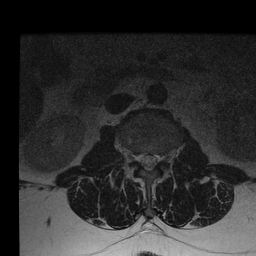CCS_normal: (144, 146, 151, 174)
LFS_normal: (158, 148, 165, 167)
LLS_normal: (152, 147, 158, 171)
RFS_normal: (131, 147, 138, 166)
RLS_normal: (138, 147, 144, 170)
